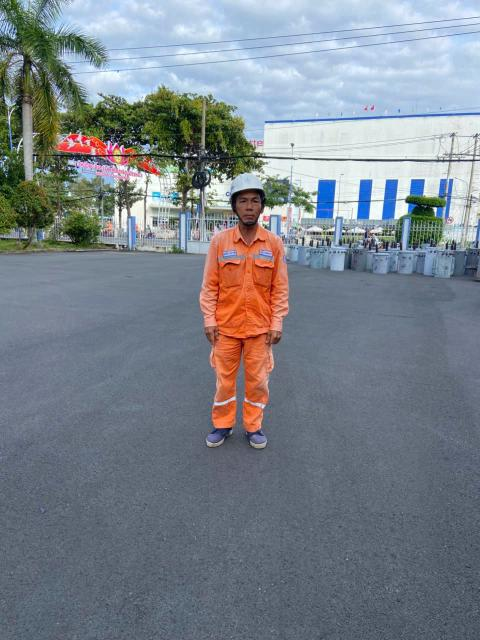helmet: (206, 164, 277, 210)
shoes: (202, 406, 241, 459), (242, 411, 283, 461)
